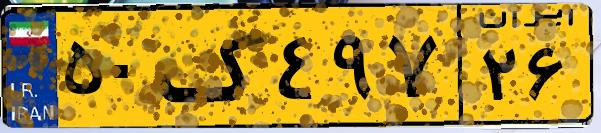0: (110, 28, 158, 98)
2: (475, 38, 525, 113)
4: (270, 28, 330, 110)
5: (57, 26, 110, 100)
6: (525, 38, 570, 115)
7: (385, 28, 445, 110)
9: (330, 28, 385, 110)
ک: (158, 12, 270, 120)
